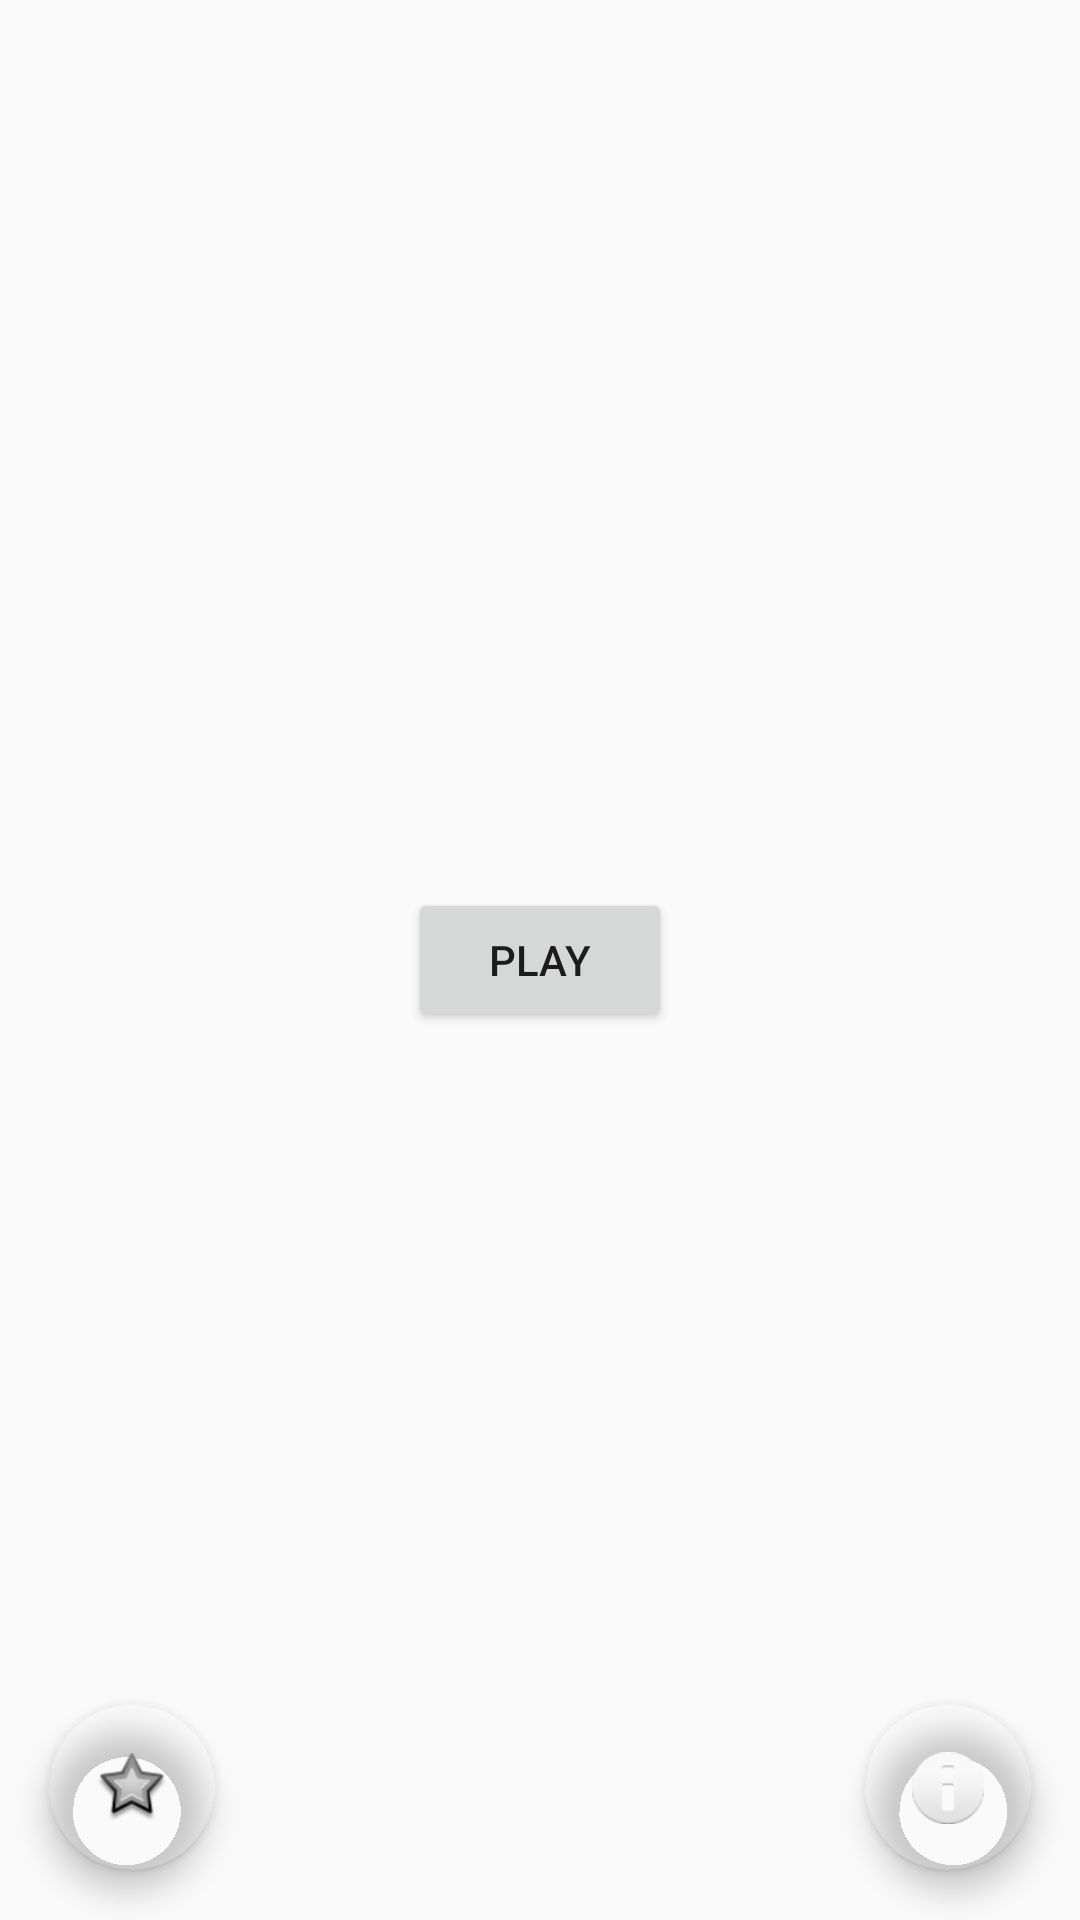

Icons on this 1080px x 1920px Android screen, each with its box as bbox(x1, y1, x2, y2):
info: bbox(866, 1733, 1032, 1872)
star off: bbox(48, 1733, 214, 1872)
